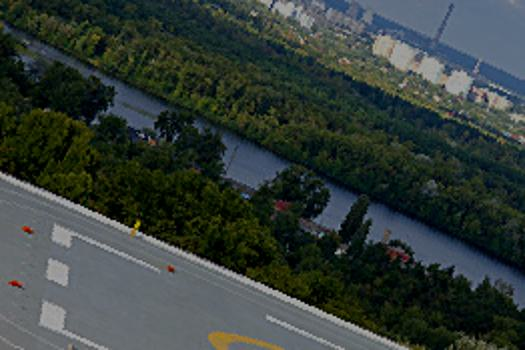Apron: (197, 312, 321, 350)
